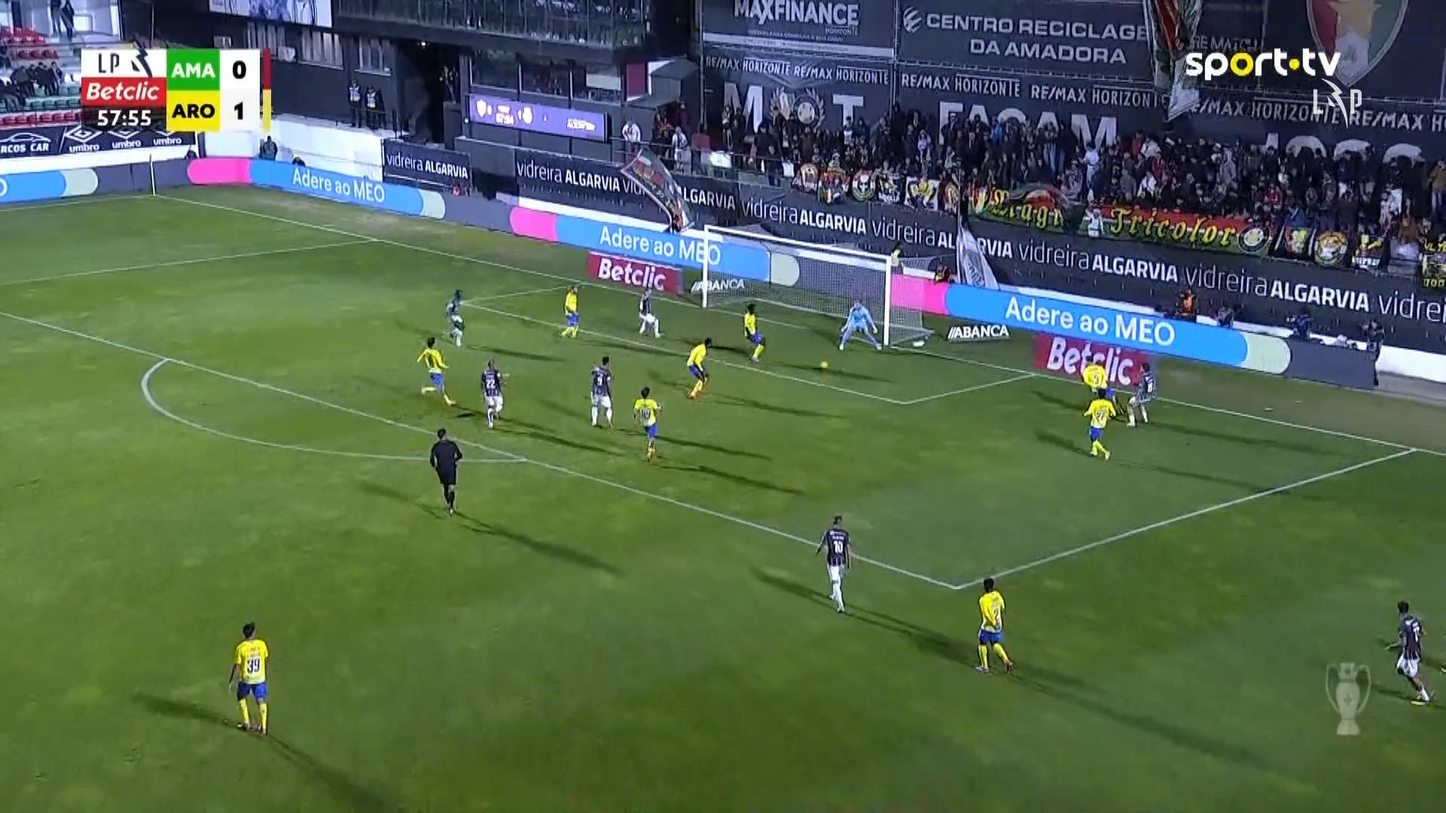ball: (819, 361, 828, 369)
goalkeeper: (837, 299, 882, 351)
player: (227, 621, 270, 735), (1390, 599, 1433, 704), (973, 576, 1014, 674), (815, 513, 852, 614), (416, 336, 456, 406), (1082, 387, 1115, 460), (631, 385, 661, 462), (1081, 357, 1118, 418), (587, 355, 615, 430), (1125, 361, 1157, 426), (479, 357, 506, 428), (685, 336, 712, 399), (741, 301, 765, 363), (636, 286, 661, 338), (444, 288, 465, 346), (560, 285, 580, 338)
referee: (429, 427, 462, 516)
